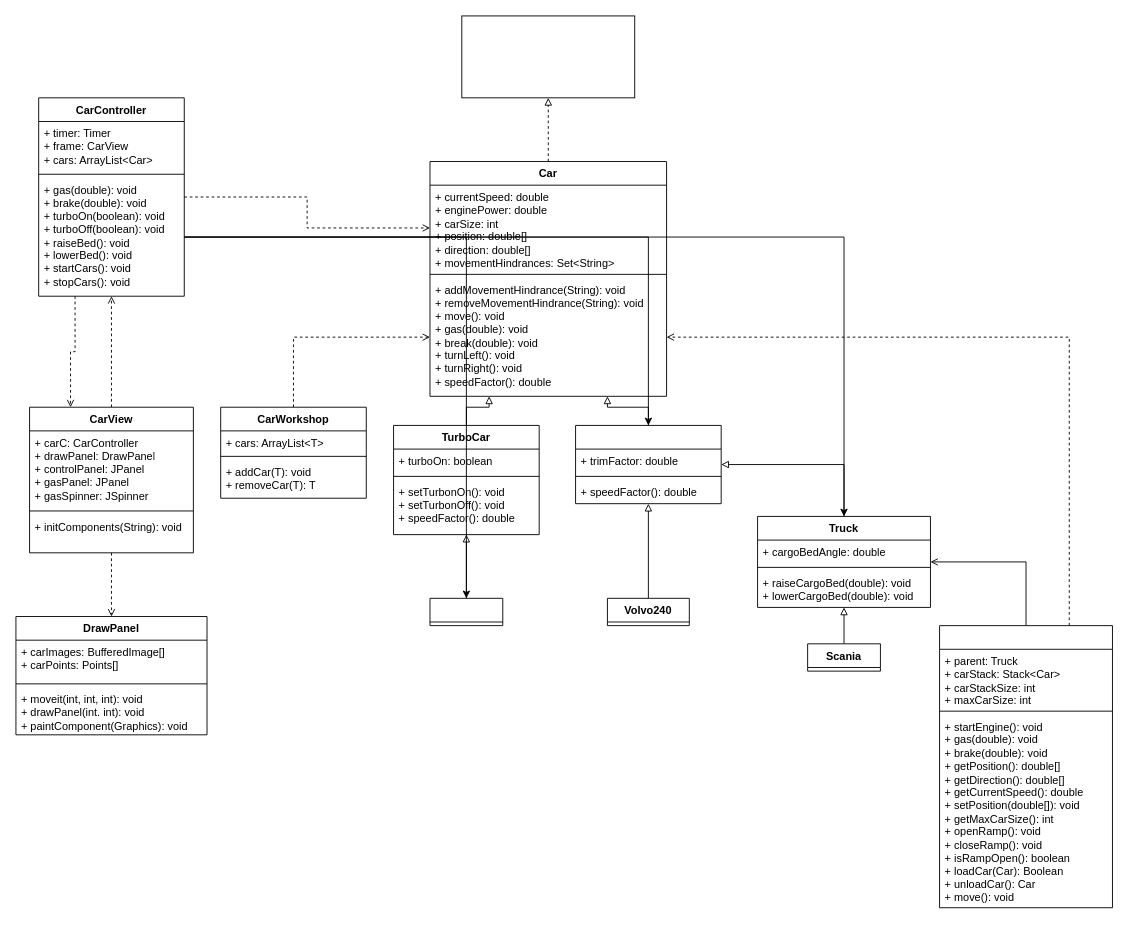
The diagram is 1128 pixels wide and 926 high, and some of its shapes have lost their labels. Each missing label, with the box of its shape:
<<Interface>> Movable + move(): void + turnLeft(): void + turnRight(): void: (461, 15, 635, 98)
CarTransport: (939, 625, 1112, 908)
Saab95: (429, 597, 503, 626)
TrimCar: (575, 425, 721, 504)
